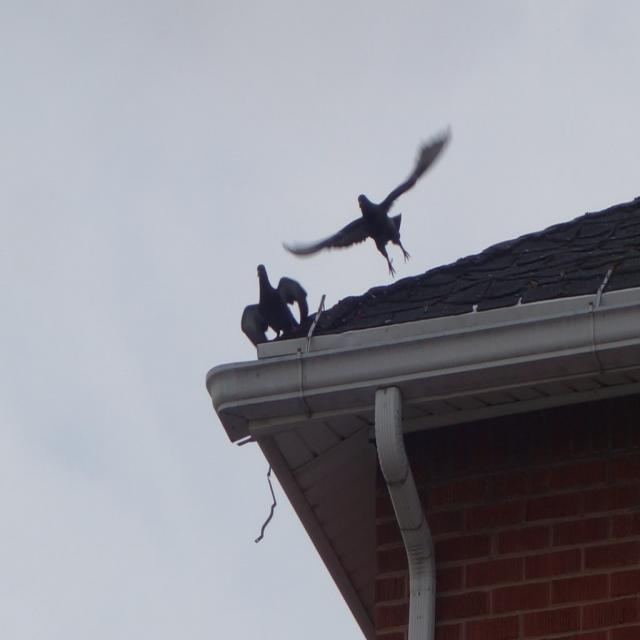bird: (281, 125, 453, 277), (256, 264, 310, 338)
